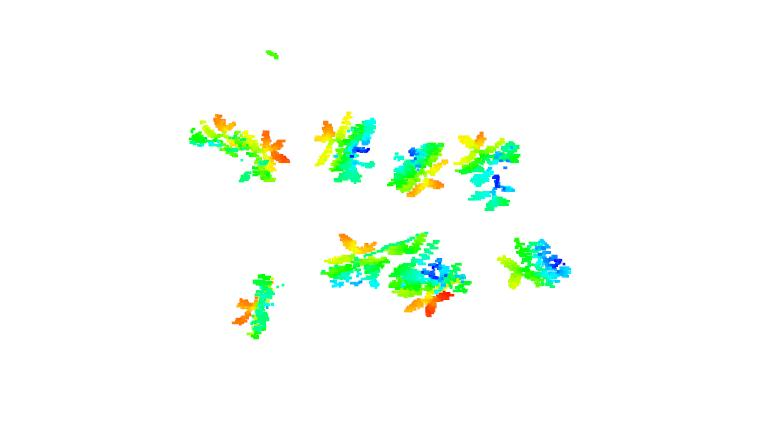chickpea: (181, 109, 295, 186), (385, 235, 470, 316), (458, 130, 522, 213), (315, 109, 381, 184), (496, 235, 572, 292), (319, 230, 387, 293), (383, 139, 448, 198), (230, 273, 284, 339)
